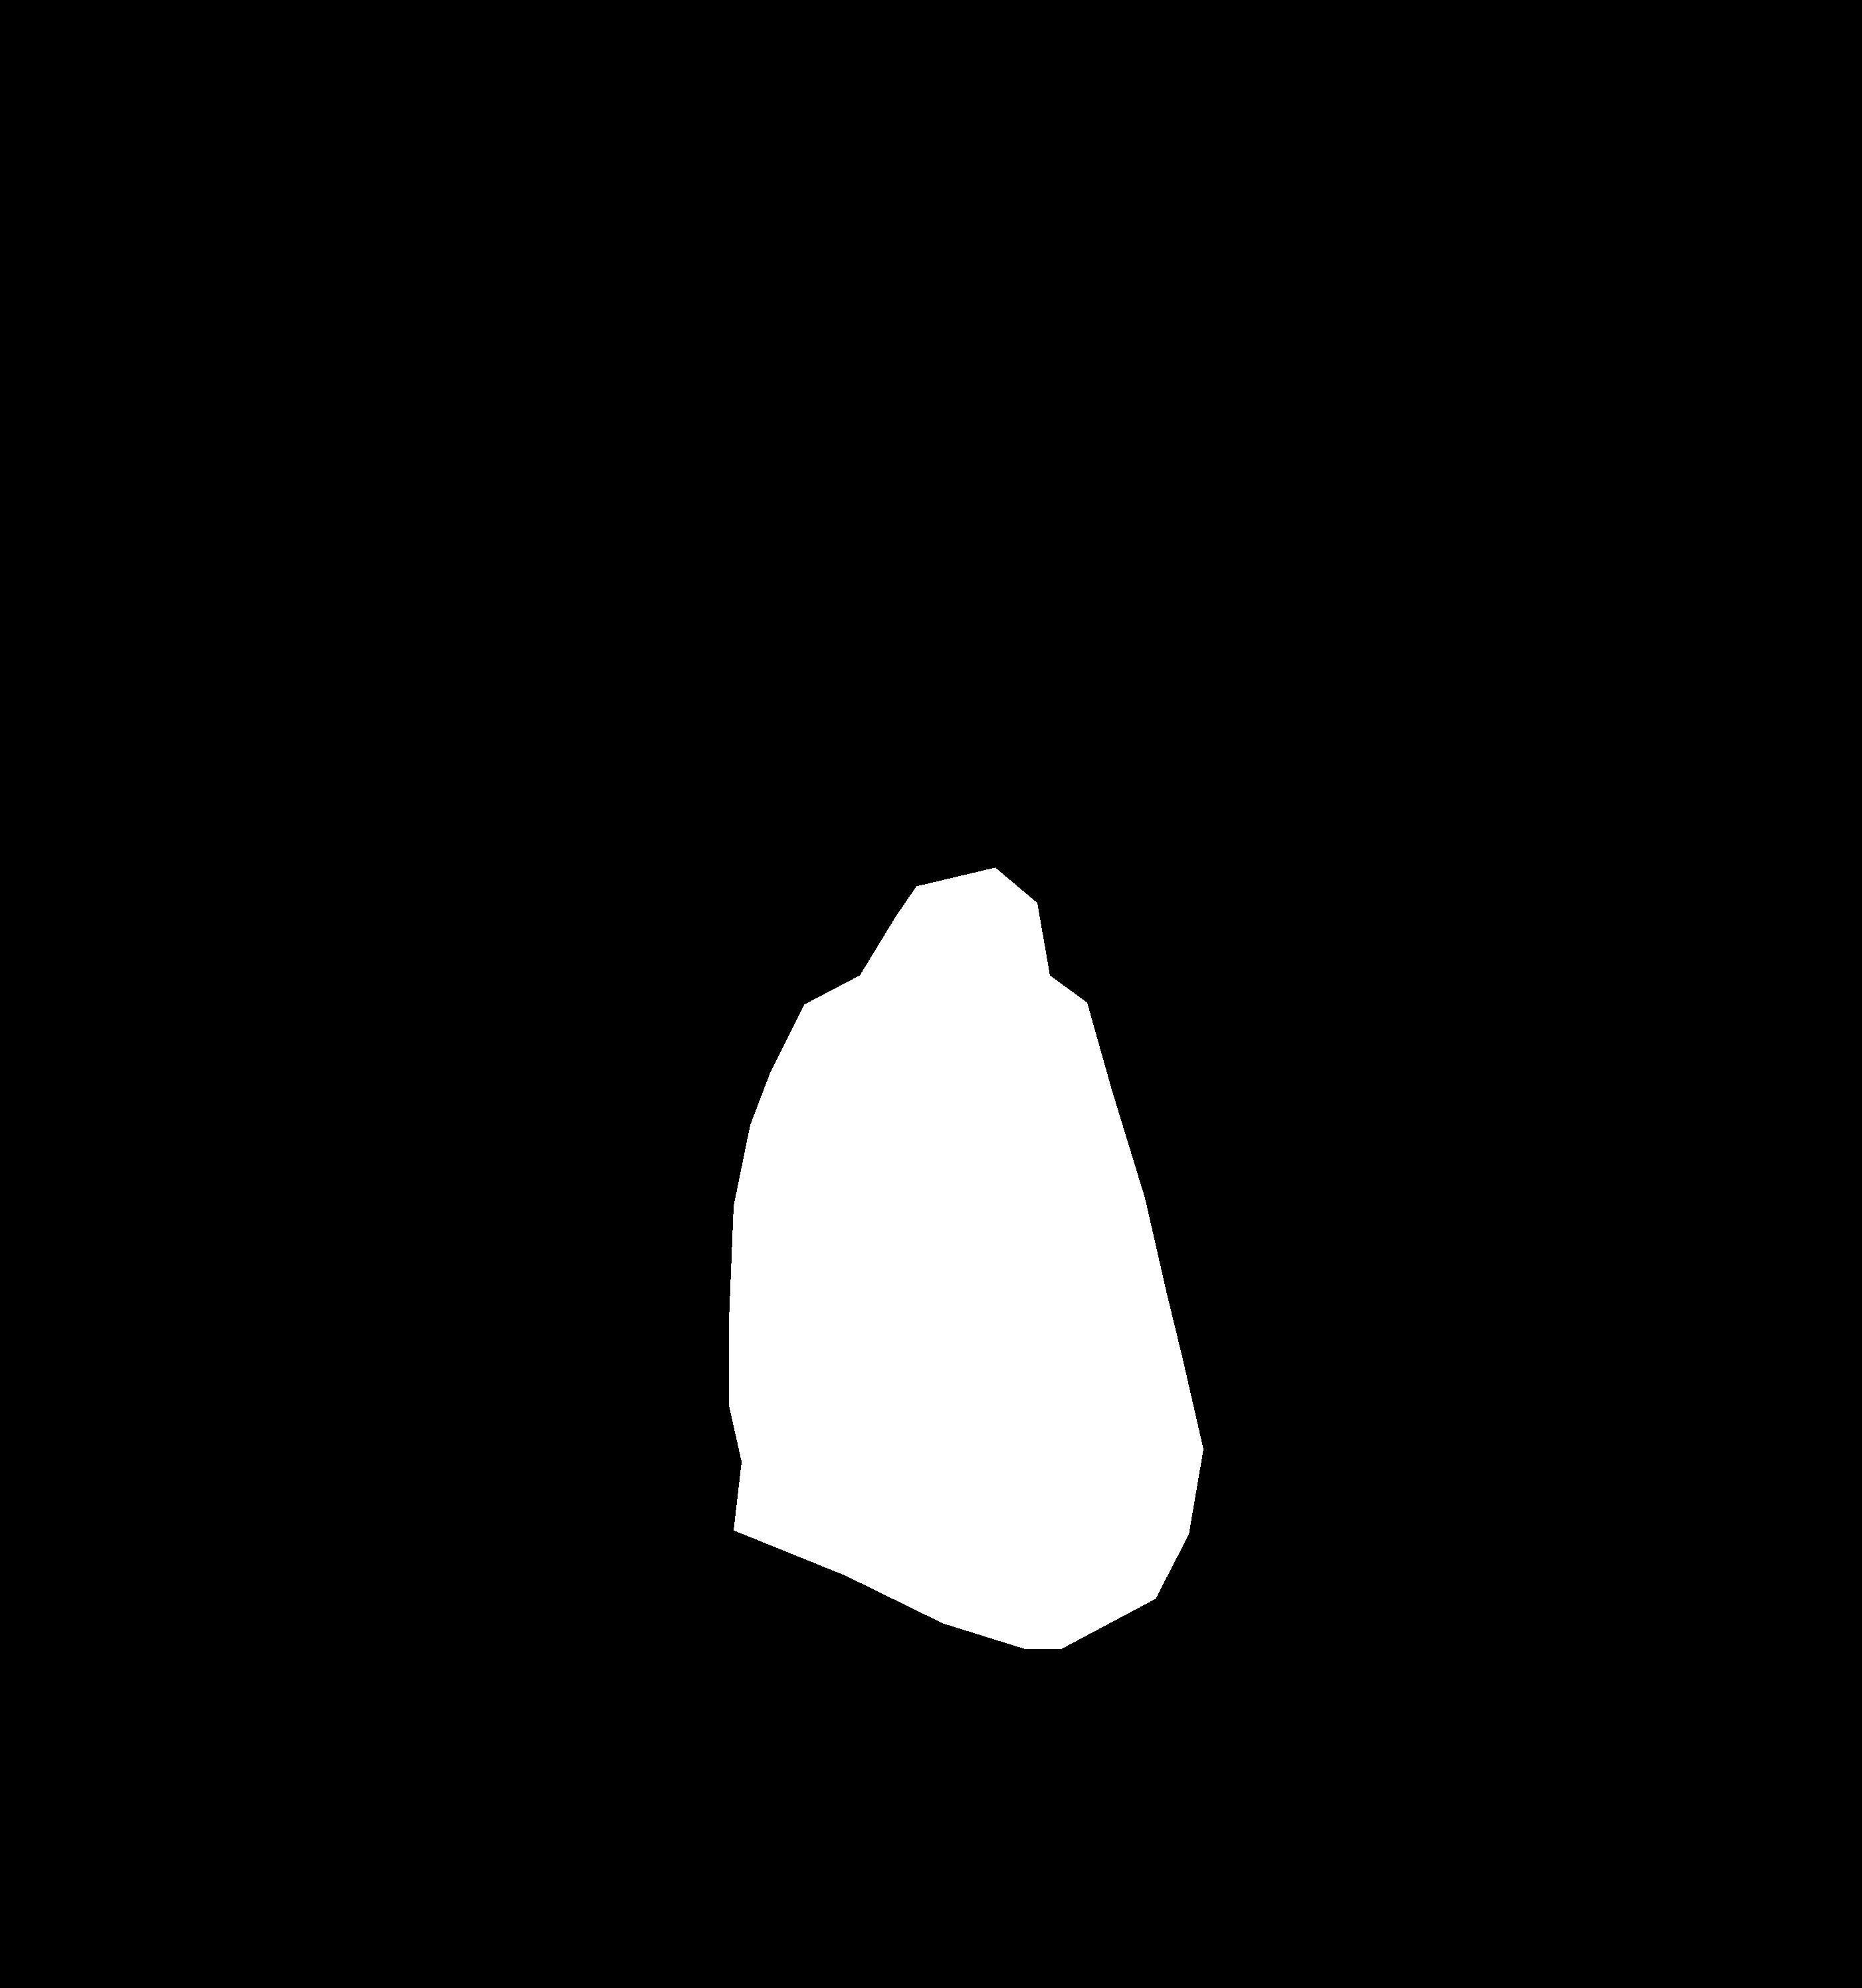heart: (730, 868, 1202, 1648)
left_lung: (157, 238, 849, 1921)
right_lung: (978, 262, 1620, 1988)
